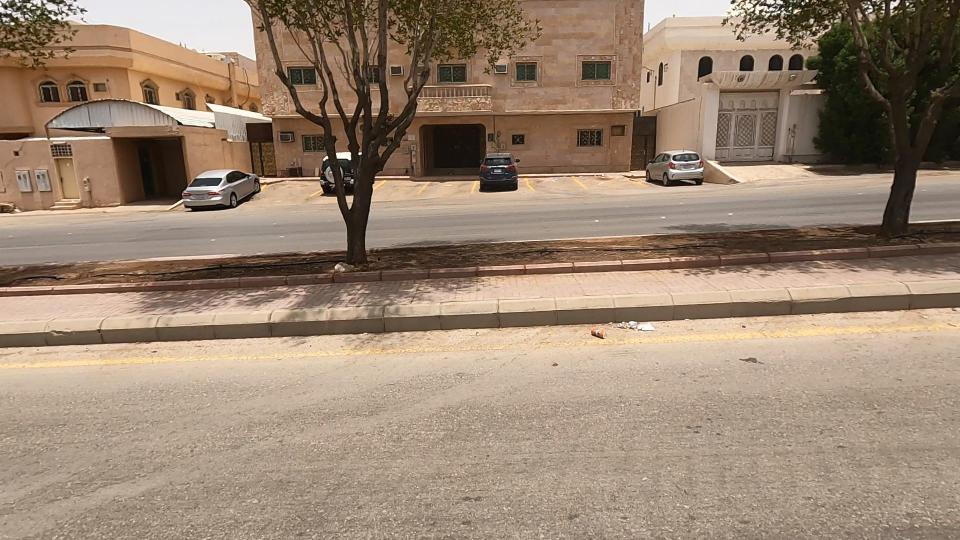CLUTTER_SIDEWALK: (324, 194, 939, 299), (0, 210, 387, 315)
GARBAGE: (520, 282, 707, 369), (306, 245, 386, 295)
